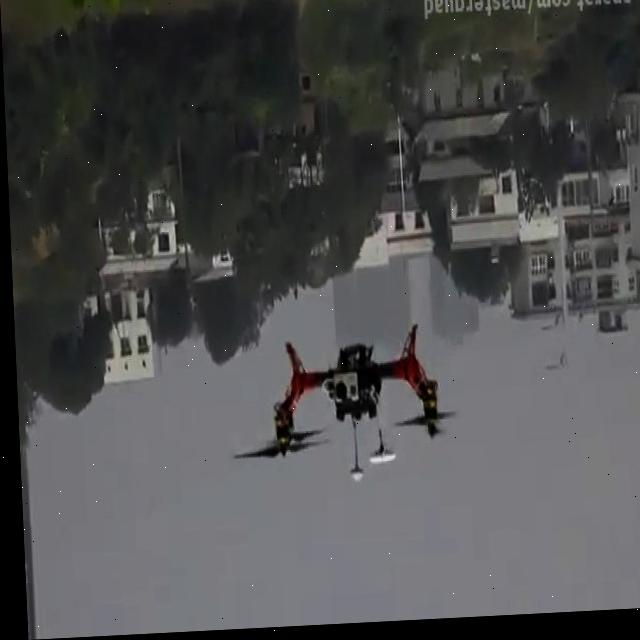drone: (225, 323, 461, 494)
